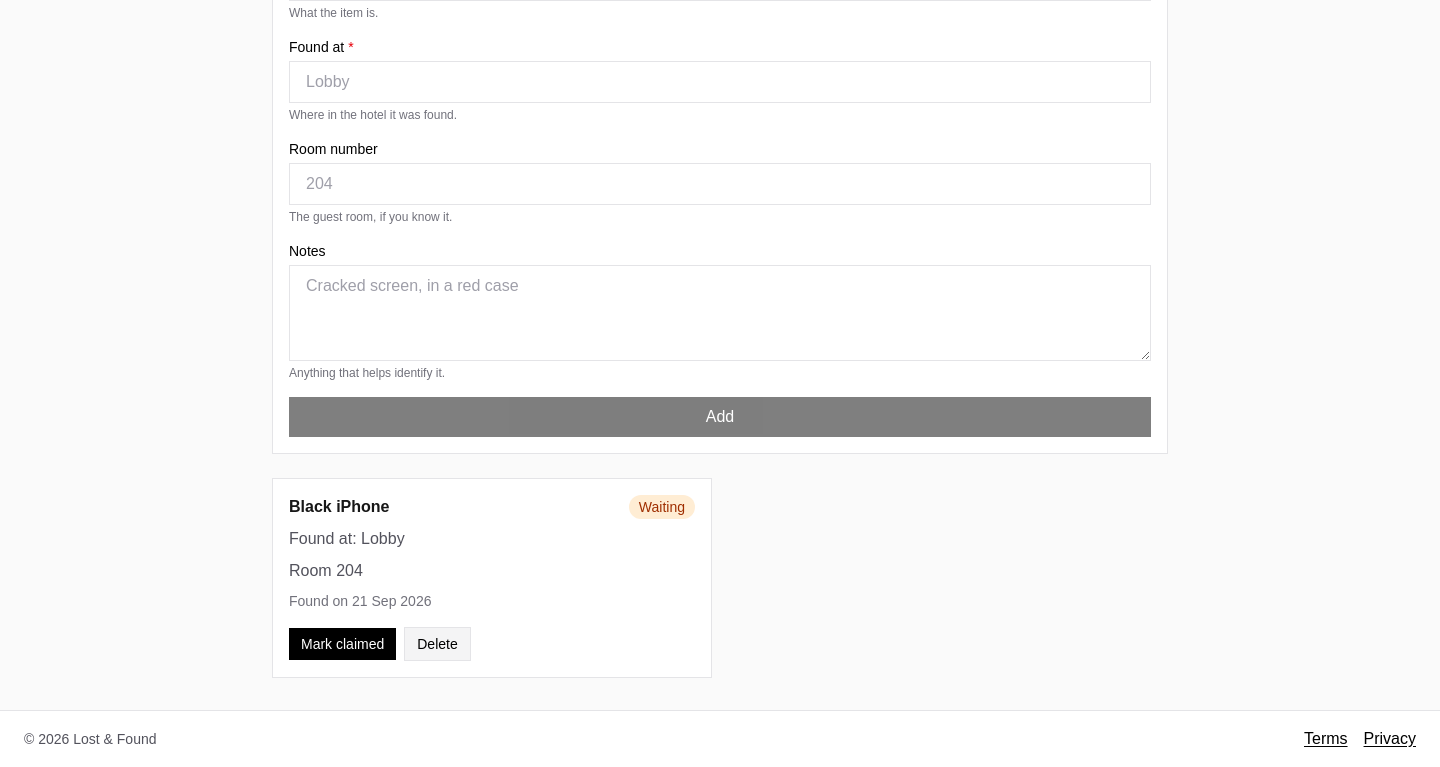
it: deleting removes the card from the list
(page scrolled)
Click the button "Delete" at (438, 644), box [404, 627, 471, 661]
(page scrolled)
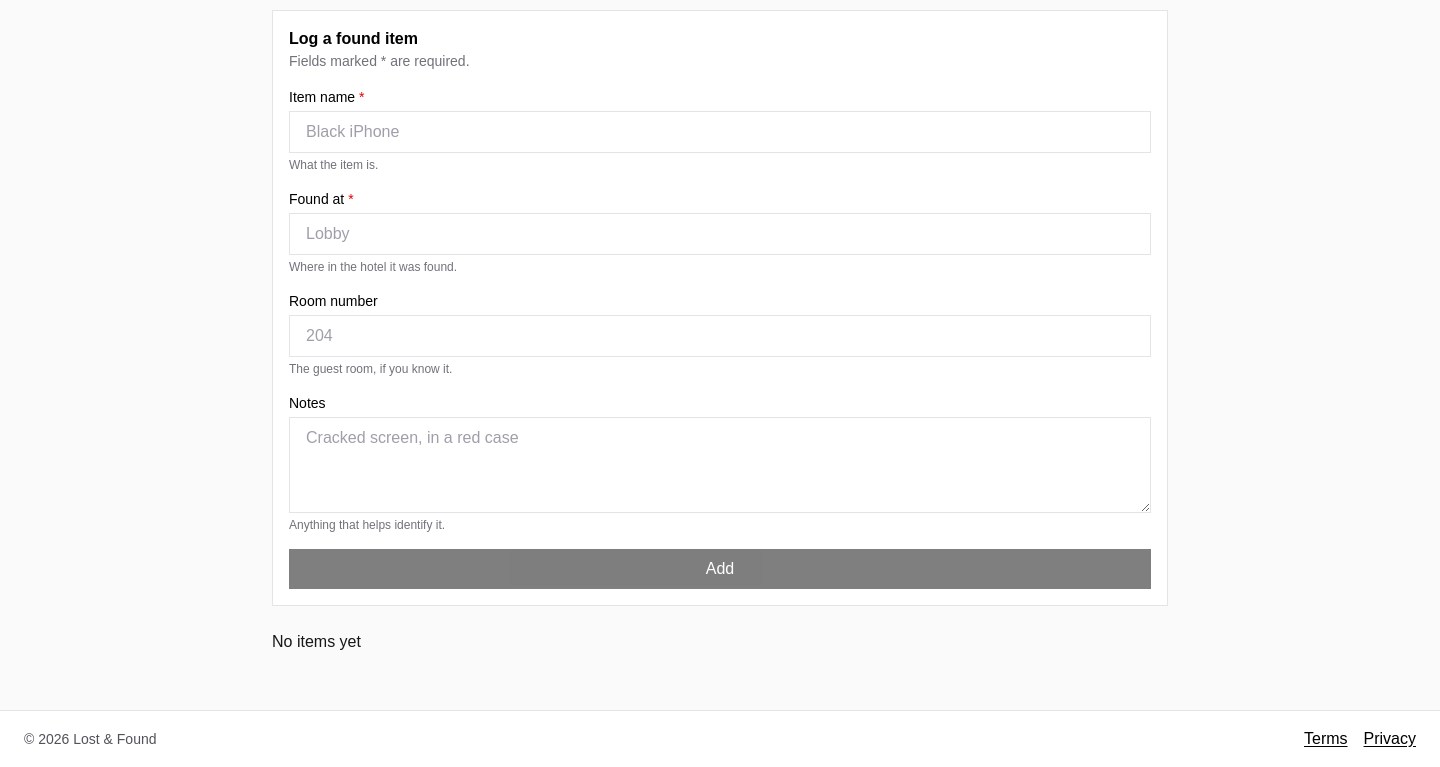
expect the text "No items yet" is shown: met, box [272, 633, 361, 650]
